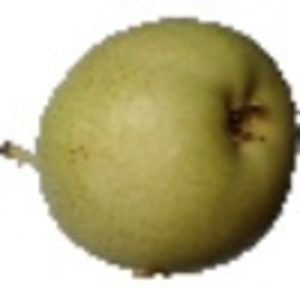pera: (1, 9, 300, 282)
